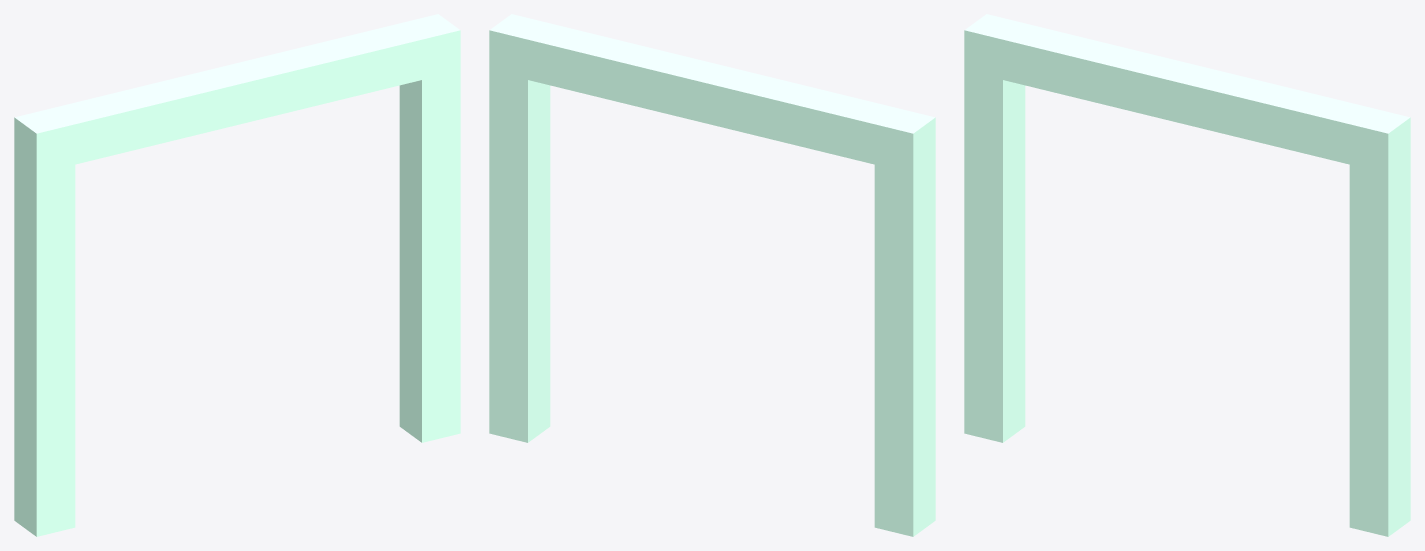
File: arch_extra_large.glb
3 renders of one model, left to right at view 1: azimuth 30°, elevation 25°; view 2: azimuth 150°, elevation 25°; view 3: azimuth 330°, elevation 25°, orthographic.
Parts seen in each view (by area): view 1: ArchExtraLarge_Lintel-convcol, ArchExtraLarge_PostL-convcol, ArchExtraLarge_PostR-convcol; view 2: ArchExtraLarge_Lintel-convcol, ArchExtraLarge_PostL-convcol, ArchExtraLarge_PostR-convcol; view 3: ArchExtraLarge_Lintel-convcol, ArchExtraLarge_PostR-convcol, ArchExtraLarge_PostL-convcol.
Boxes of the visible parts, x1,y1,x2,y2 form: ArchExtraLarge_Lintel-convcol: (14, 14, 460, 173); ArchExtraLarge_PostL-convcol: (14, 158, 75, 536); ArchExtraLarge_PostR-convcol: (399, 70, 460, 442); ArchExtraLarge_Lintel-convcol: (489, 14, 935, 173); ArchExtraLarge_PostL-convcol: (874, 158, 935, 536); ArchExtraLarge_PostR-convcol: (489, 70, 550, 442); ArchExtraLarge_Lintel-convcol: (964, 14, 1410, 173); ArchExtraLarge_PostR-convcol: (1349, 158, 1410, 536); ArchExtraLarge_PostL-convcol: (964, 70, 1025, 442).
Bounding box in the file's own units: 14.85 × 13.5 × 1.35.
